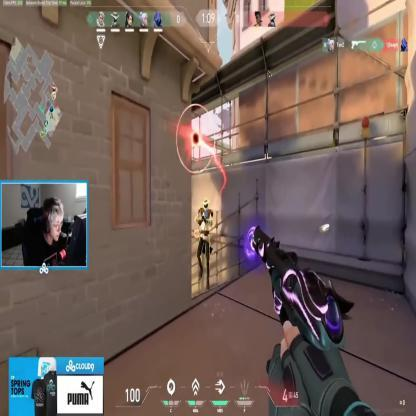enemy: (194, 197, 212, 289)
enemy_head: (204, 199, 209, 210)
